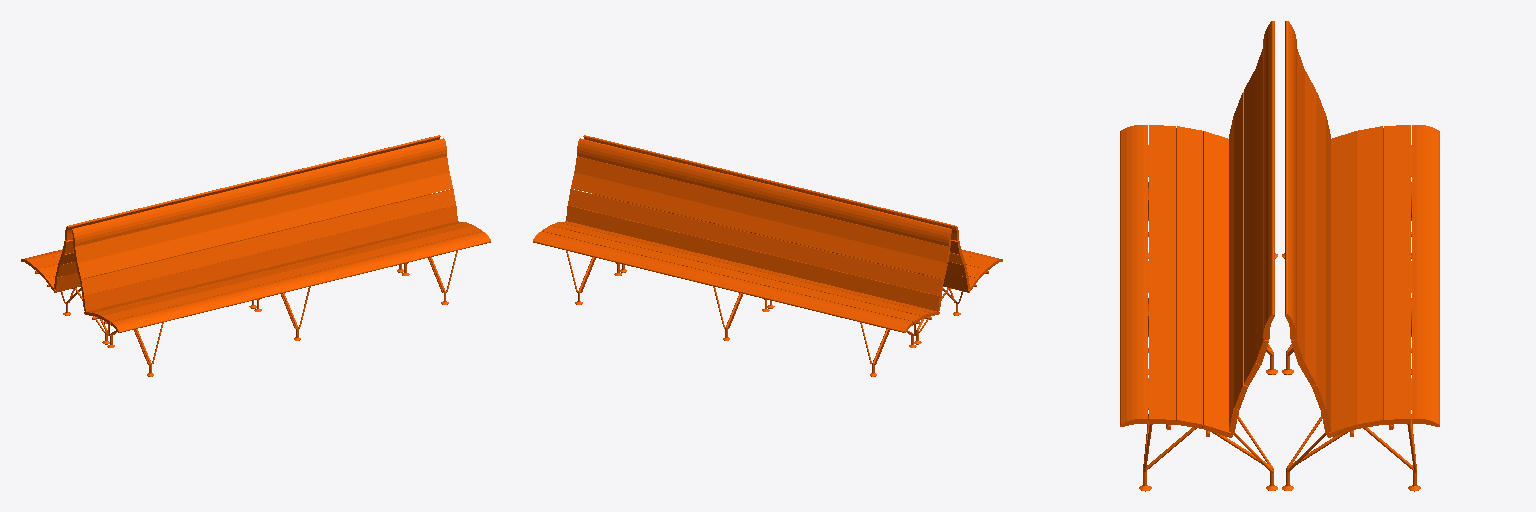
URDF robot description (Bench_59089fba3a5c392418066d5cd29faeb):
<?xml version="1.0" ?>
<robot name="Bench_59089fba3a5c392418066d5cd29faeb">
   <material name="obj_color">
      <color rgba="1.0 0.423529411765 0.0392156862745 1.0"/>
   </material>
   <link name="top">
      <inertial>
         <origin rpy="0.001675098825981063 0.00725374496529904 0.007850257985583696" xyz="0.0002049960122103677 4.865295811539825e-05 -0.005092023958791686"/>
         <mass value="1.471626402803629"/>
         <inertia ixx="0.001675098825981067" ixy="2.996545903322903e-15" ixz="-1.539573907844409e-10" iyy="0.007253744965304179" iyz="1.751161801402898e-09" izz="0.007850257985578549"/>
      </inertial>
      <visual>
         <origin rpy="0 0 0" xyz="0 0 0"/>
         <geometry>
            <mesh filename="top_watertight_tiny.stl" scale="1 1 1"/>
         </geometry>
         <material name="obj_color"/>
      </visual>
      <collision>
         <origin rpy="0 0 0" xyz="0 0 0"/>
         <geometry>
            <mesh filename="top_watertight_tiny.obj" scale="1 1 1"/>
         </geometry>
      </collision>
   </link>
   <link name="bottom">
      <inertial>
         <origin rpy="1.633333333199431e-08 1.633333333199431e-08 1.633333333362855e-08" xyz="0.3464080000000008 0.3464080000000008 0.3464080000000008"/>
         <mass value="0.0009800000000000017"/>
         <inertia ixx="1.633333333253906e-08" ixy="5.447480642029219e-19" ixz="5.447480642029219e-19" iyy="1.633333333253906e-08" iyz="5.447480642029219e-19" izz="1.633333333253906e-08"/>
      </inertial>
      <visual>
         <origin rpy="0 0 0" xyz="0 0 0"/>
         <geometry>
            <mesh filename="bottom_watertight_tiny.stl" scale="1 1 1"/>
         </geometry>
         <material name="obj_color"/>
      </visual>
   </link>
   <link name="world"/>
   <joint name="world_to_base" type="fixed">
      <origin xyz="0 0 0"/>
      <axis xyz="0 0 0"/>
      <parent link="world"/>
      <child link="bottom"/>
   </joint>
   <joint name="rotation" type="revolute">
      <origin xyz="0 0 0"/>
      <axis xyz="0 0 -1"/>
      <parent link="bottom"/>
      <child link="top"/>
      <dynamics damping="1.0" friction="1.0"/>
      <limit effort="0.1" velocity="0.1" lower="0" upper="0.001"/>
   </joint>
</robot>

--- Facts derived from the render (not from the file) ---
3 views of the same robot in one strip: view 1: azimuth 30°, elevation 25°; view 2: azimuth 150°, elevation 25°; view 3: azimuth 270°, elevation 25° (orthographic).
Robot: Bench_59089fba3a5c392418066d5cd29faeb — 3 links, 2 joints (1 revolute, 1 fixed); root link world; default pose: all joints at 0.
Visible links, largest first — view 1: top; view 2: top; view 3: top.
Link boxes in pixels (x1,y1,x2,y2): top: (21, 135, 490, 376); top: (533, 135, 1002, 376); top: (1120, 21, 1439, 491).
Size in the robot's own frame: 0.245 by 0.1127 by 0.0799 metres.
Meshes: 2 distinct files referenced, 1 mesh visuals loaded (1 binary STL); not drawn: 1 (reference not matched to a file when rendering).
